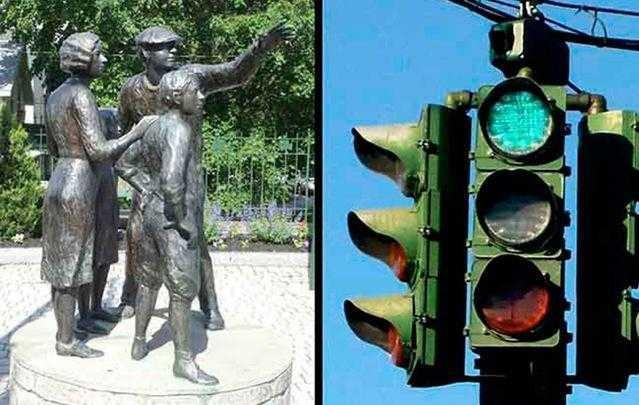2: (461, 67, 567, 346)
red traffic light: (476, 75, 566, 170)
